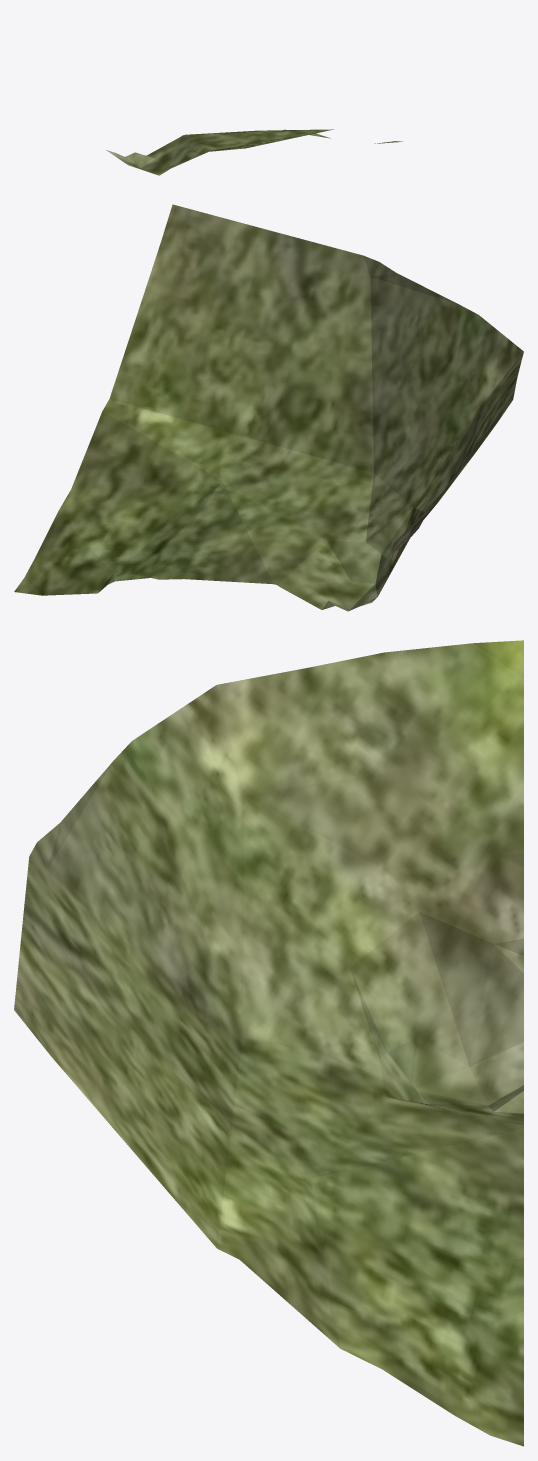
3 views of the same model, one above another, from view 1: azimuth 30°, elevation 25°; view 2: azimuth 150°, elevation 25°; view 3: azimuth 270°, elevation 25° (orthographic). The views are drawn at different scales.
Size of the model in its own units: 1.82 by 1 by 1.06.
1 material, 1 textured.
